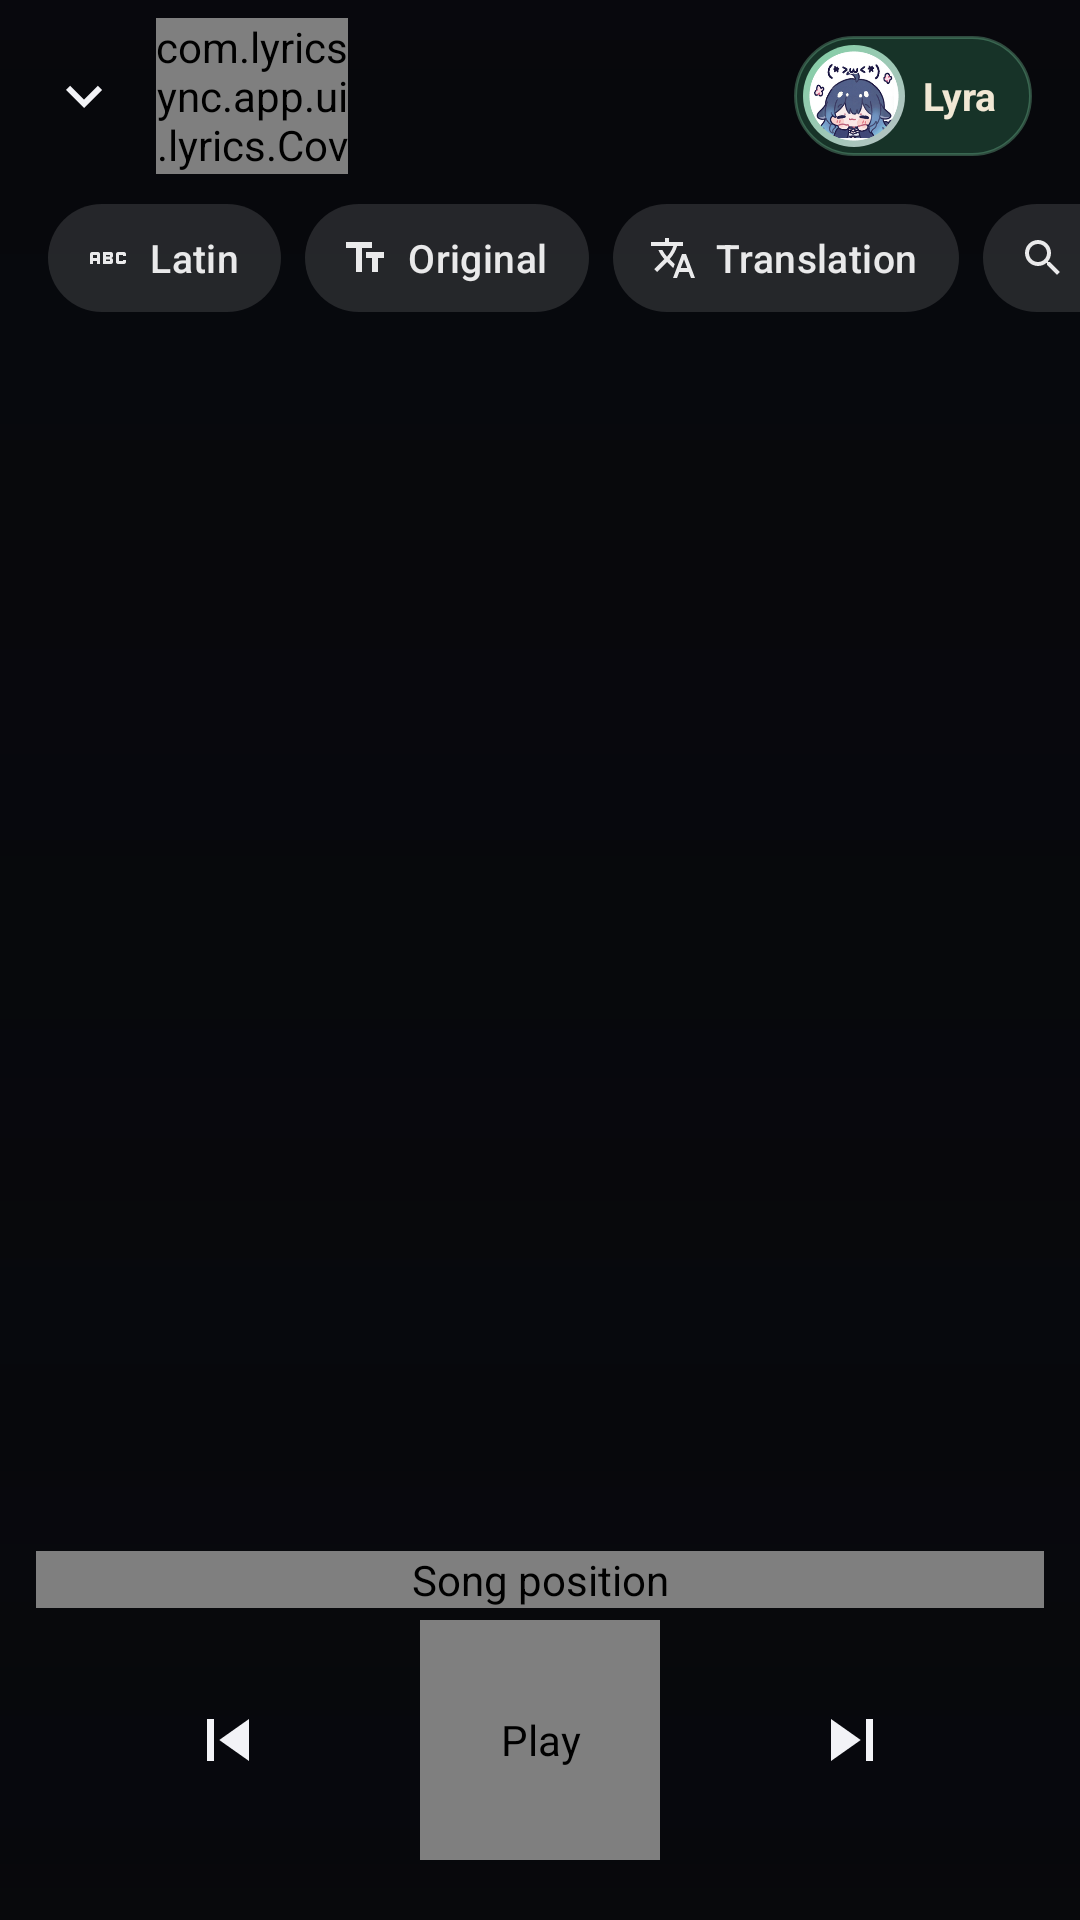

Icon click points for this 1080 × 1920 phone screenshot, format (x,y):
Close: (84,97)
mascot proud: (854,96)
Next: (852,1740)
Previous: (228,1740)
